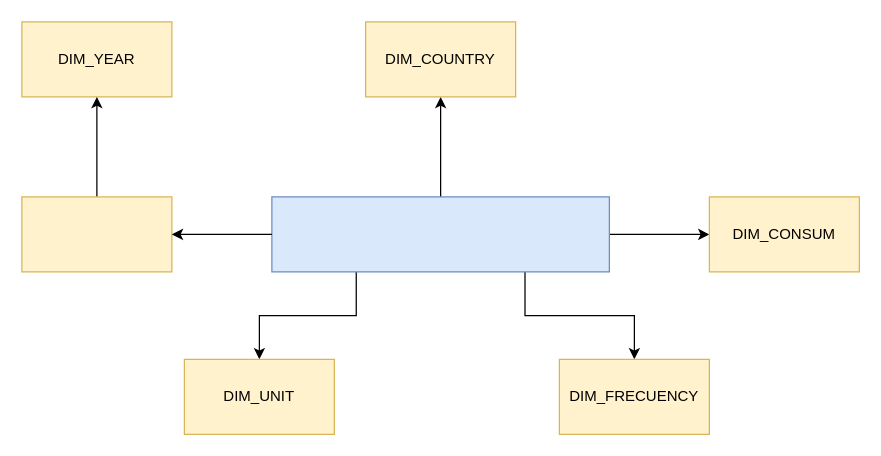
This 881x456 diagram has some shape labels left out. The centre of each missing label's shape, as x and y in pixels:
"DIM_MONTH" belongs at (x=96, y=234).
"FACT_EUROZONE_INDICATORS" belongs at (x=440, y=234).
